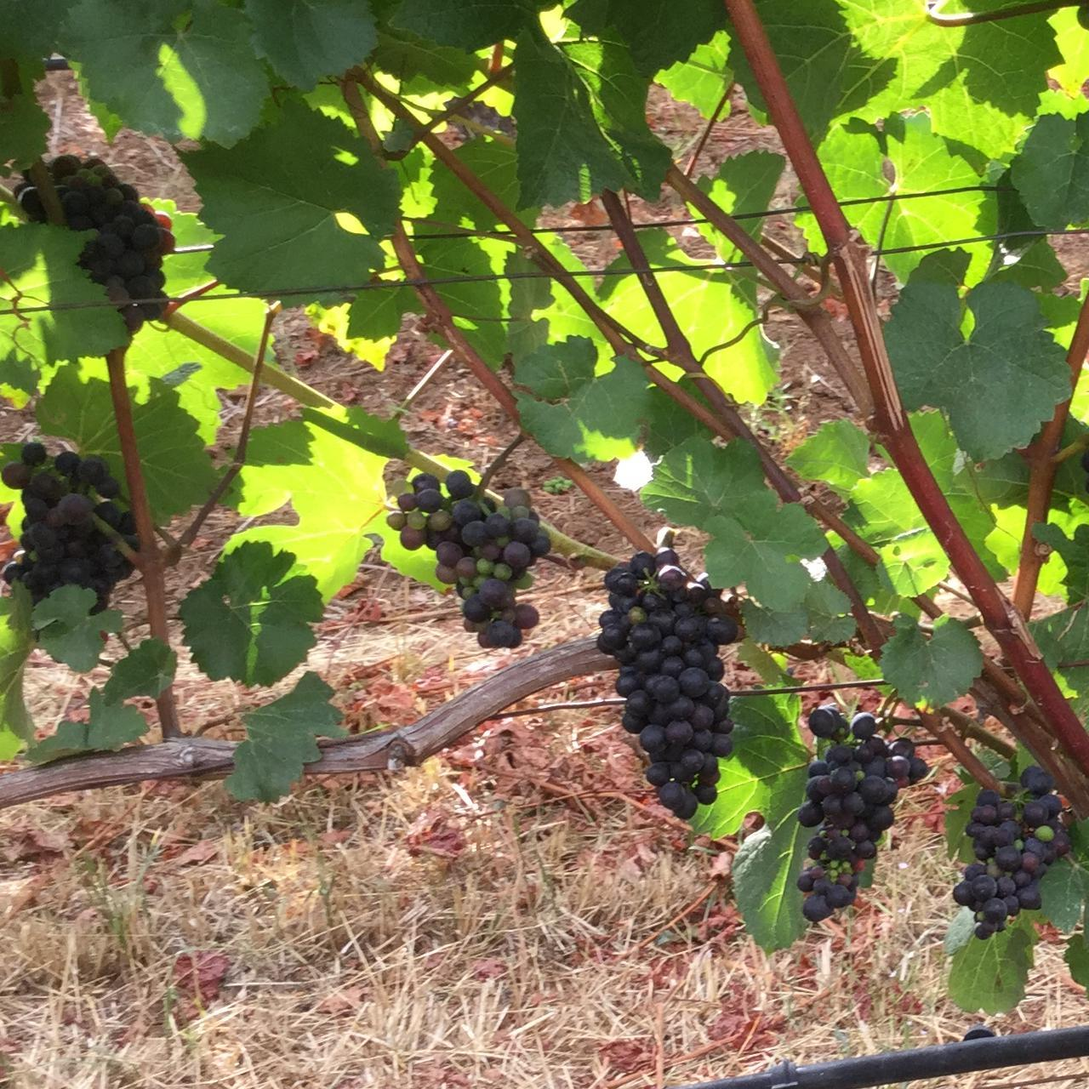Grape Ripe: (580, 532, 753, 807), (25, 141, 209, 350), (389, 456, 547, 679), (765, 709, 909, 922), (930, 760, 1079, 948), (0, 453, 143, 626)
